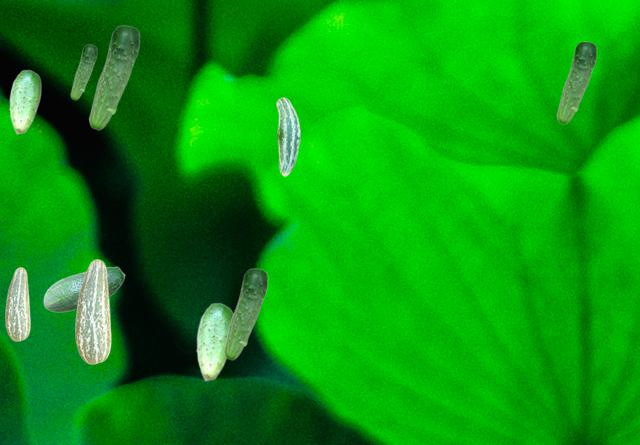cucumber: (88, 25, 139, 129), (223, 268, 267, 359), (43, 266, 124, 311), (75, 259, 110, 363), (556, 41, 596, 123), (196, 302, 232, 380), (9, 69, 40, 133), (276, 97, 299, 175), (5, 267, 29, 340), (70, 44, 96, 99)
